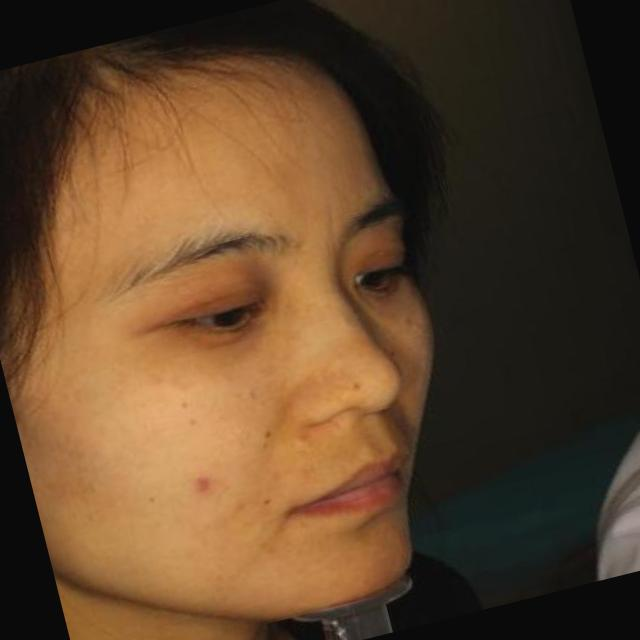acne: (176, 459, 223, 507)
blackhead: (247, 416, 285, 448), (343, 372, 368, 398), (256, 487, 280, 512)
